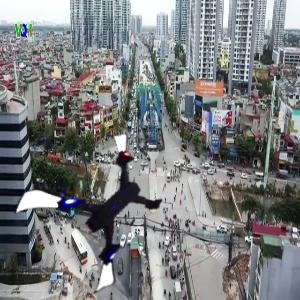drone: (30, 148, 174, 292)
